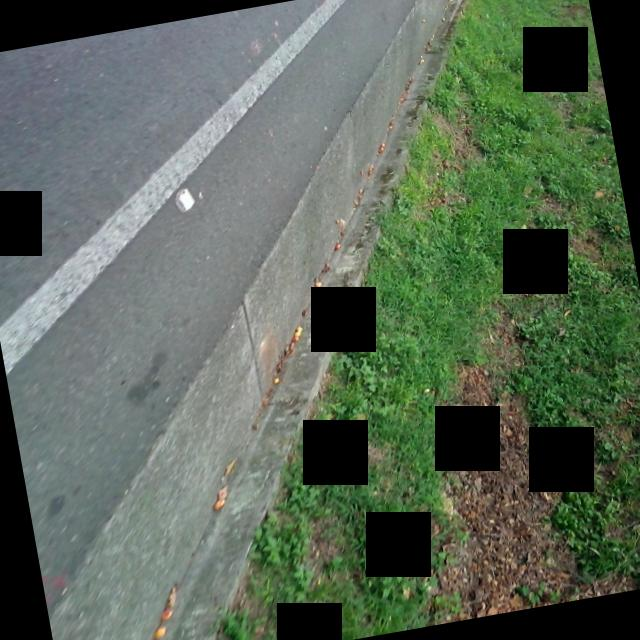DITCH: (0, 0, 604, 640), (0, 0, 586, 640)
